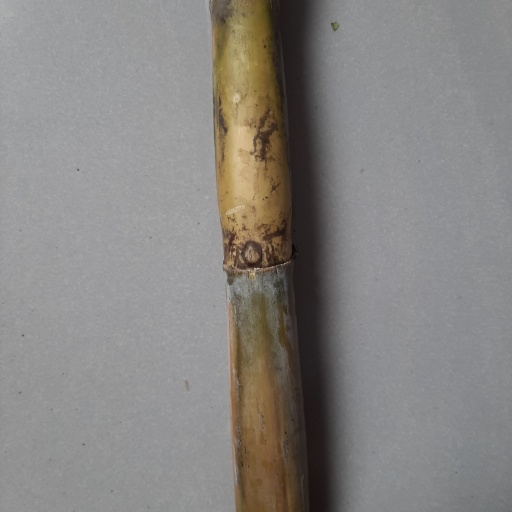Bud: (239, 241, 264, 270)
